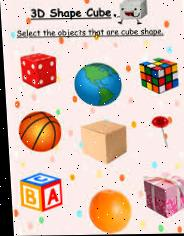cube: (81, 122, 126, 163), (17, 172, 61, 213), (143, 173, 184, 217)
